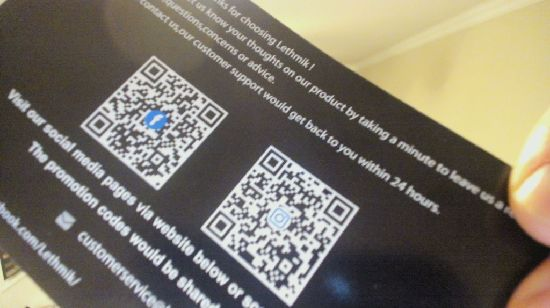QR_CODE: (197, 139, 368, 307), (70, 42, 232, 196)
